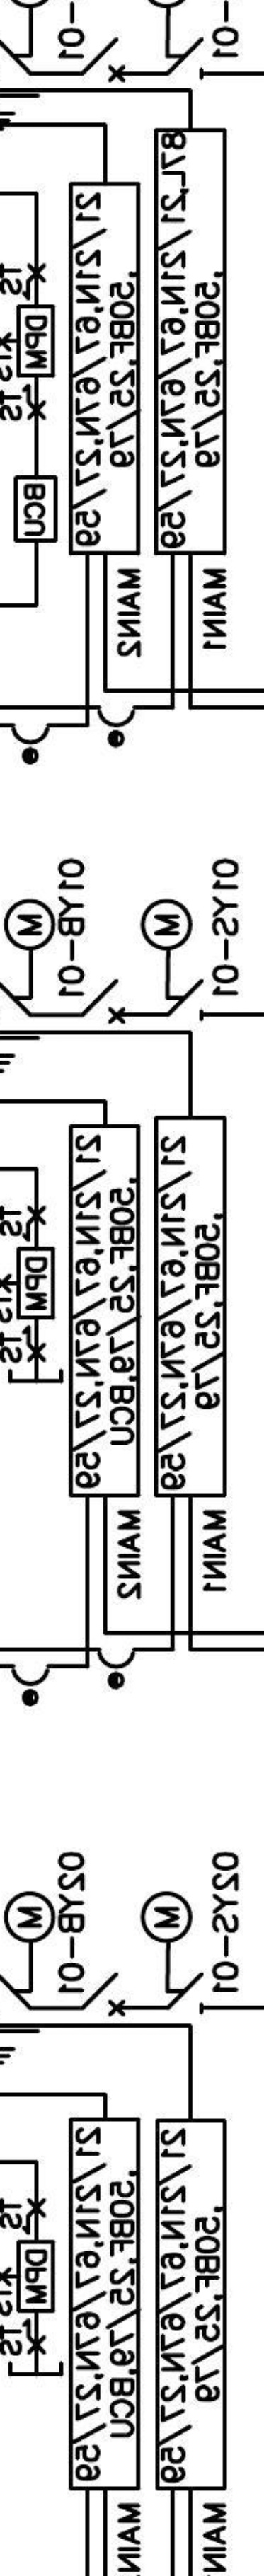115_1way_ds_w_motor: (139, 897, 205, 1022), (139, 1891, 205, 2016)
115_breaker: (80, 36, 126, 84), (80, 979, 126, 1025), (80, 1971, 126, 2017)
BCU: (13, 475, 59, 544)
DPM: (16, 1245, 56, 1321), (16, 304, 56, 378), (16, 2239, 56, 2313)
